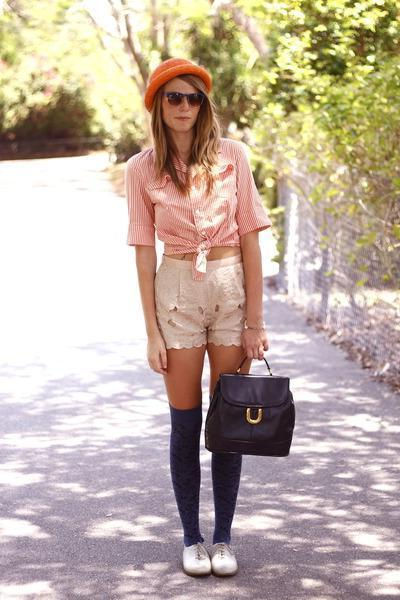Shorts: (148, 251, 261, 352)
short sleeve shirt: (115, 134, 271, 252)
